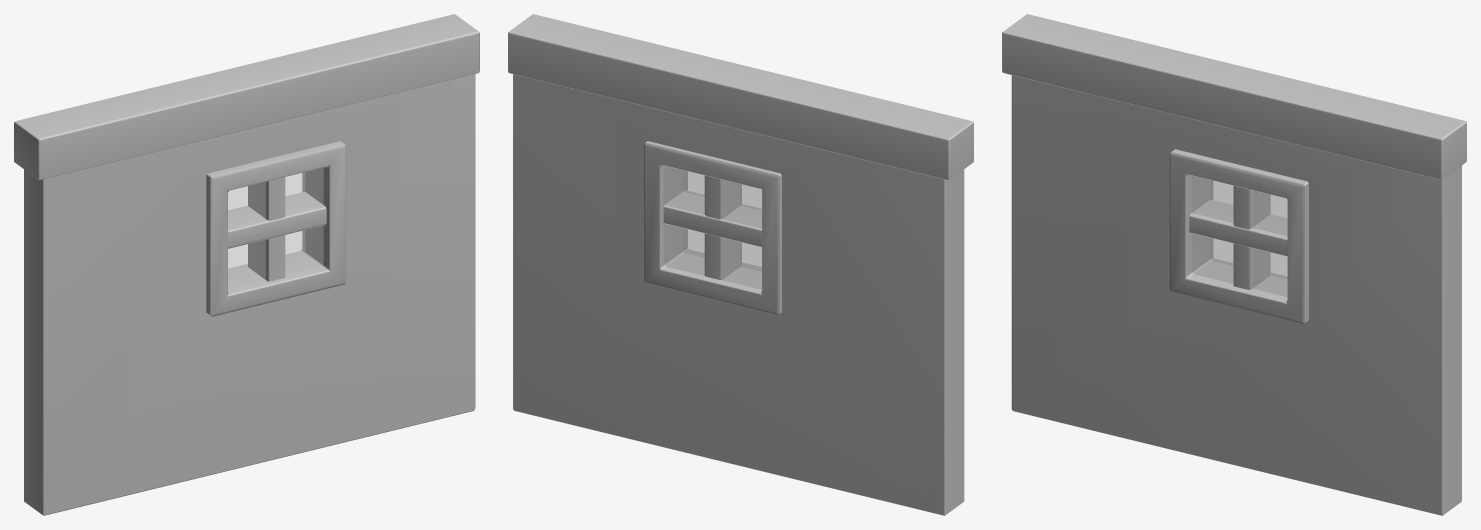
Rendered from Wall_55.fbx.
3 renders of one model, left to right at view 1: azimuth 30°, elevation 25°; view 2: azimuth 150°, elevation 25°; view 3: azimuth 330°, elevation 25°, orthographic.
Visible parts, largest first — view 1: Wall_55; view 2: Wall_55; view 3: Wall_55.
Boxes of the visible parts, x1=… form: Wall_55: x1=14, y1=14, x2=479, y2=515; Wall_55: x1=508, y1=14, x2=973, y2=515; Wall_55: x1=1002, y1=14, x2=1466, y2=515.
Bounding box in the file's own units: 506 × 417 × 55.95.
